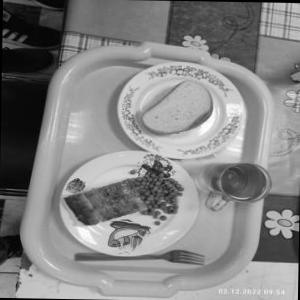bread: (136, 76, 223, 143)
casserole: (68, 160, 182, 238)
tea: (199, 153, 271, 222)
